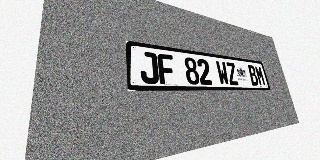2: (196, 58, 212, 85)
8: (183, 57, 200, 85)
B: (247, 65, 259, 86)
F: (157, 53, 176, 84)
J: (139, 51, 159, 84)
M: (254, 66, 266, 86)
W: (215, 61, 230, 85)
Z: (225, 62, 239, 85)
